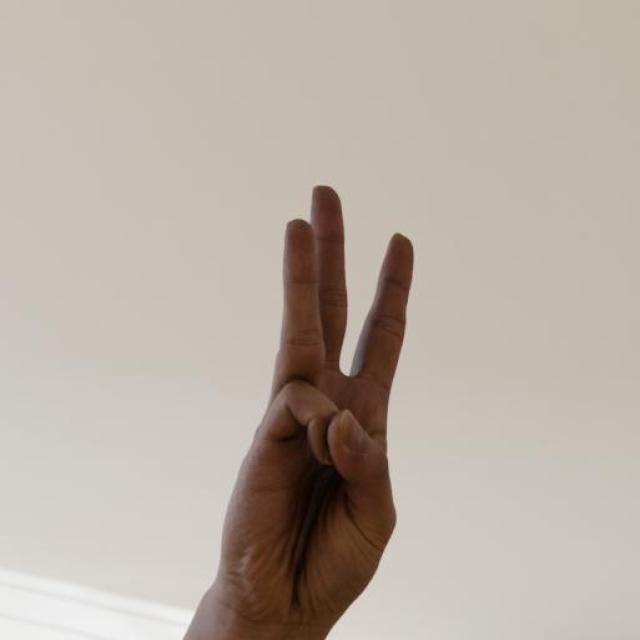W: (190, 176, 443, 623)
